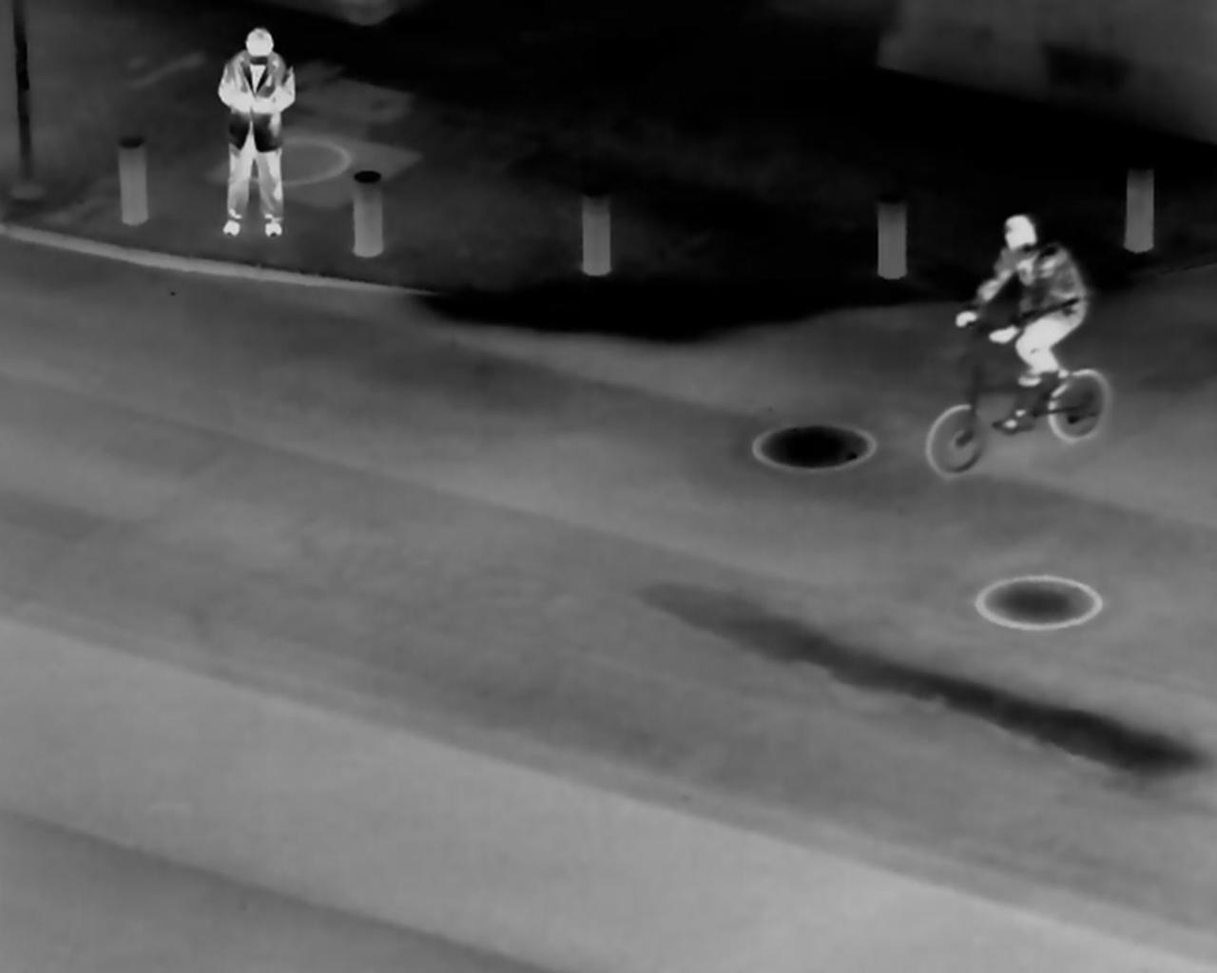person: (954, 192, 1092, 439), (203, 14, 307, 235)
